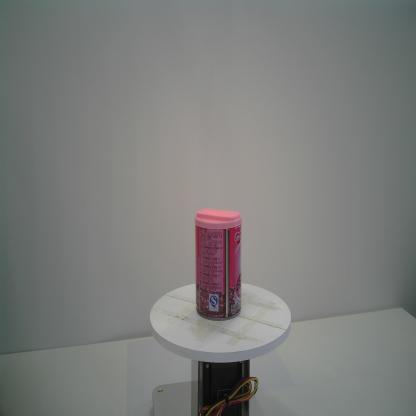Canned Food: (194, 206, 243, 324)
